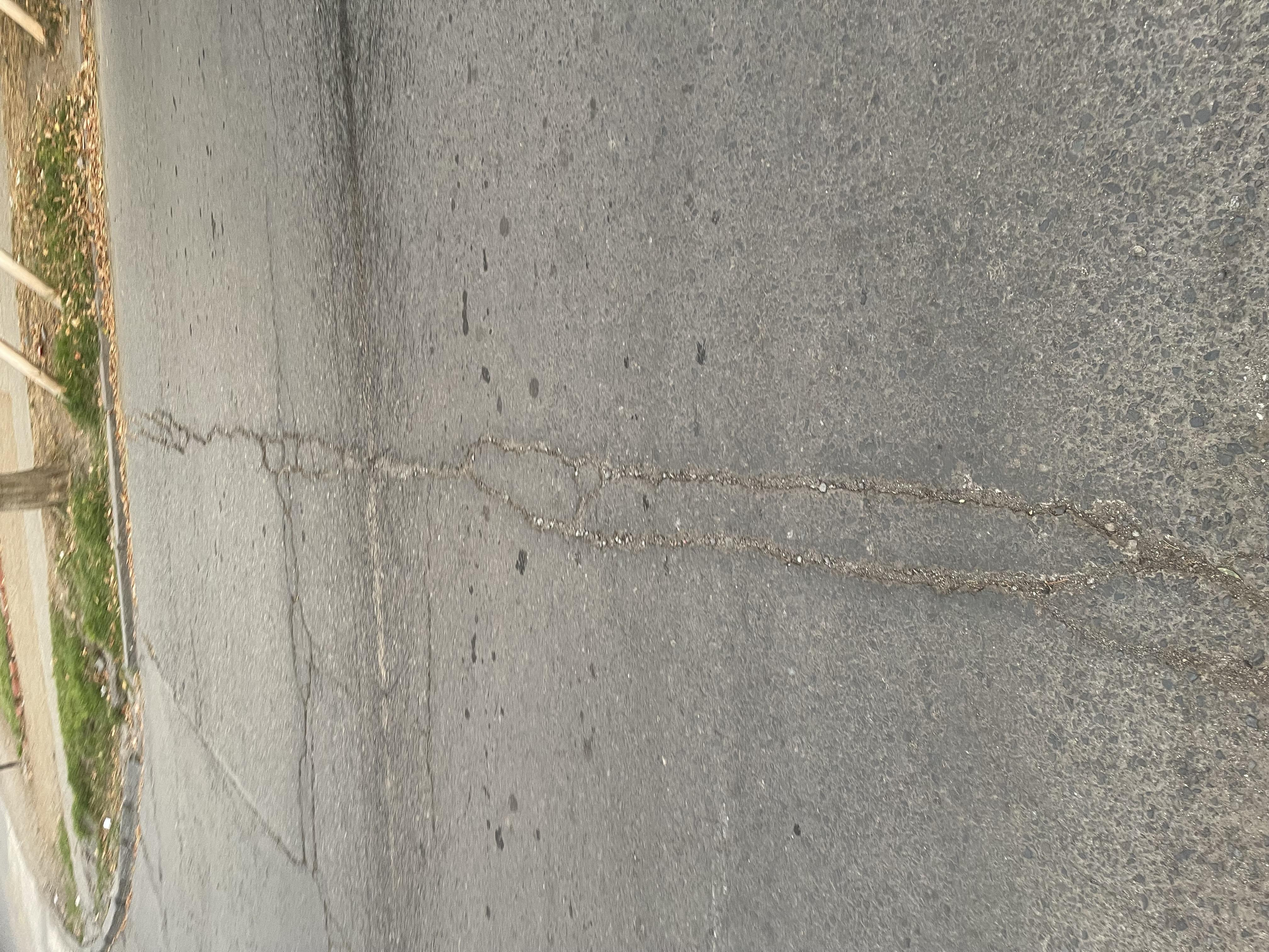GRIETA: (463, 435, 1269, 614), (469, 474, 1156, 593), (146, 638, 301, 862), (1034, 595, 1269, 700), (121, 416, 249, 456), (262, 194, 283, 418), (142, 413, 174, 439), (156, 410, 191, 432)
PIEL DE COCODRILO: (250, 421, 457, 952)
